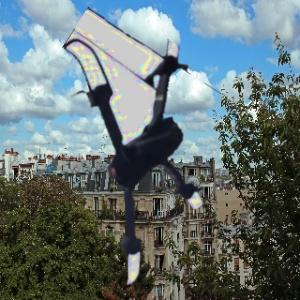drone: (15, 39, 255, 279)
